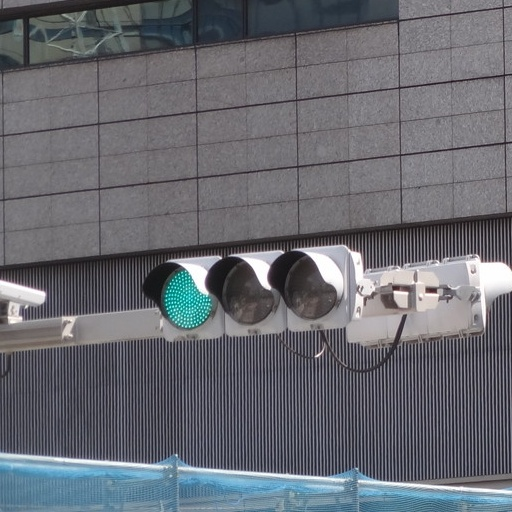Pedestrian_Signal_Red: (150, 245, 368, 338)
